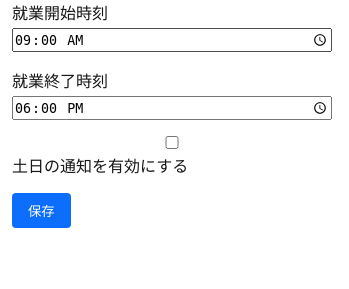
Test: SettingsForm › 異常系No.6のバリデーションエラーをフィールドごとに表示する
This screenshot has width=349, height=289.
Click the button "保存" at (41, 210), box [12,193,71,228]
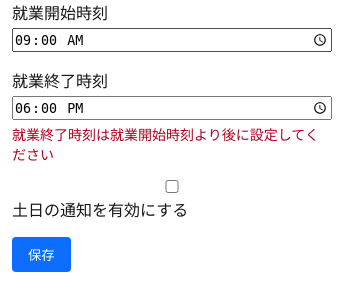
Expected: the text "就業終了時刻は就業開始時刻より後に設定してください" is shown, [12,124,332,164]
